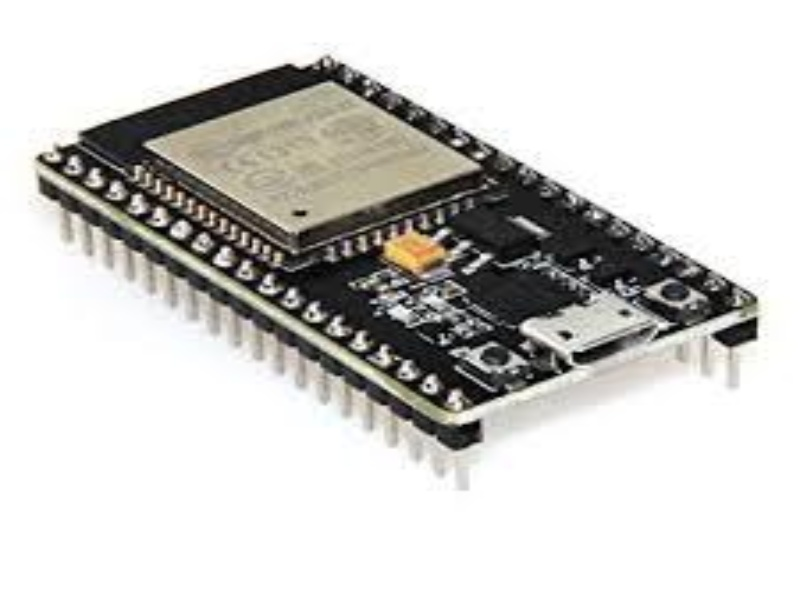esp32: (9, 20, 791, 465)
